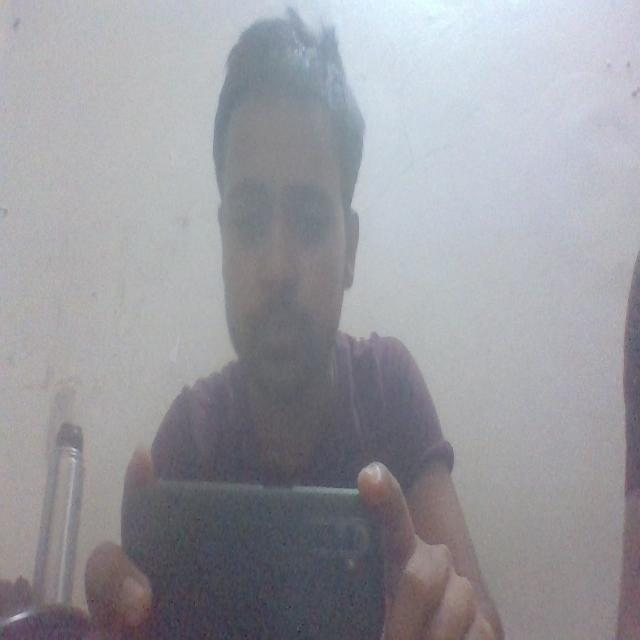Phone: (116, 480, 400, 640)
